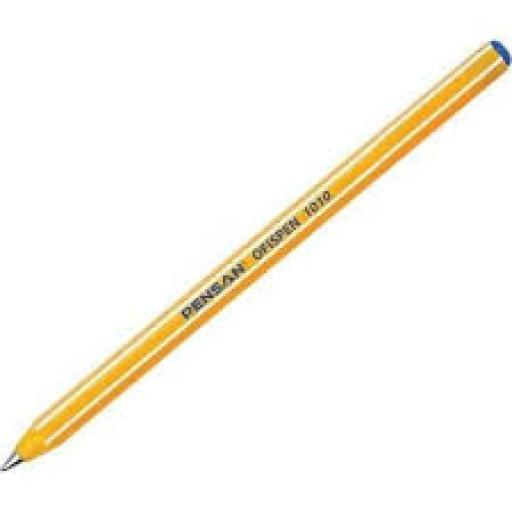tukenmez-kalem: (0, 28, 508, 473)
